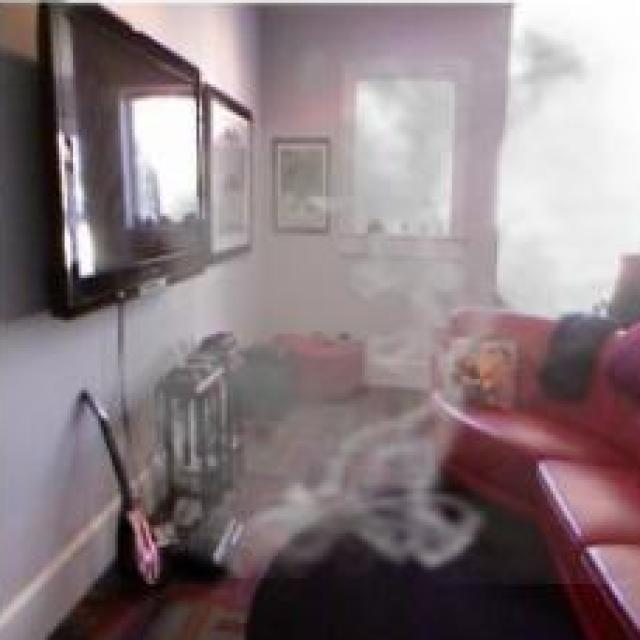fire: (67, 6, 640, 584)
